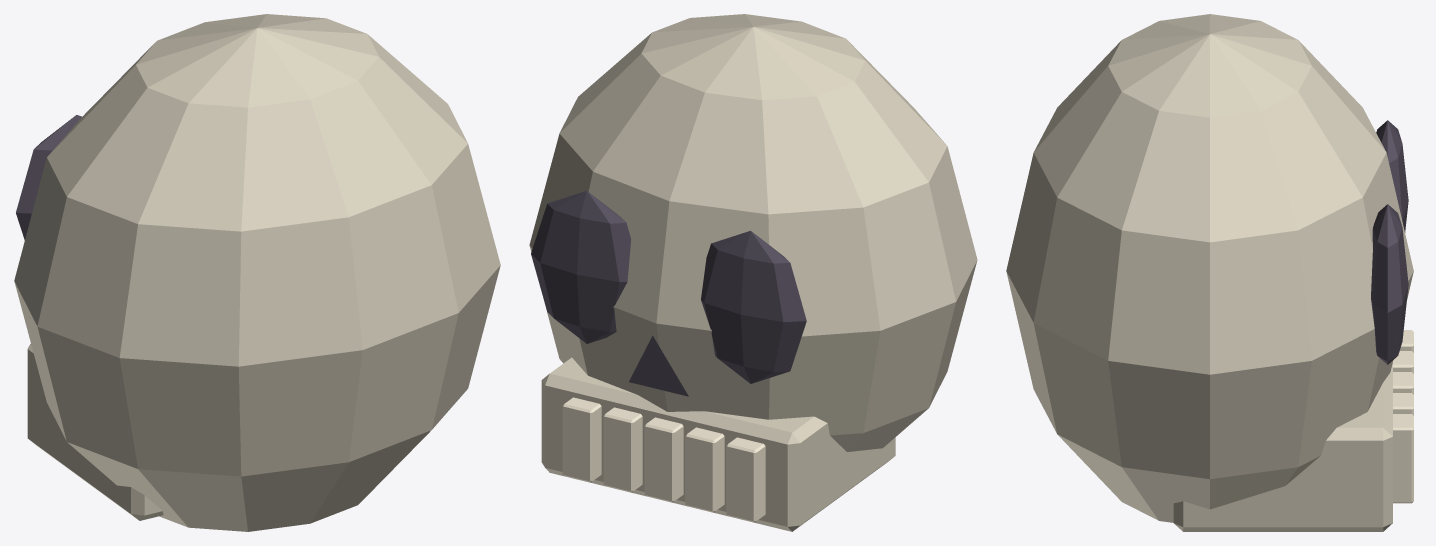
Rendered from grave_skull.glb.
3 views of the same model, side by side, from view 1: azimuth 30°, elevation 25°; view 2: azimuth 150°, elevation 25°; view 3: azimuth 270°, elevation 25° (orthographic). The views are drawn at different scales.
Bounding box in the file's own units: 0.4512 × 0.48 × 0.3816.
